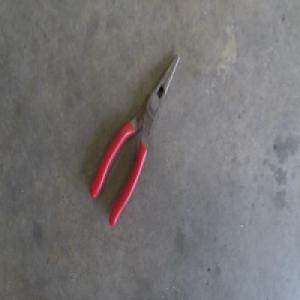Pliers: (91, 47, 181, 222)
